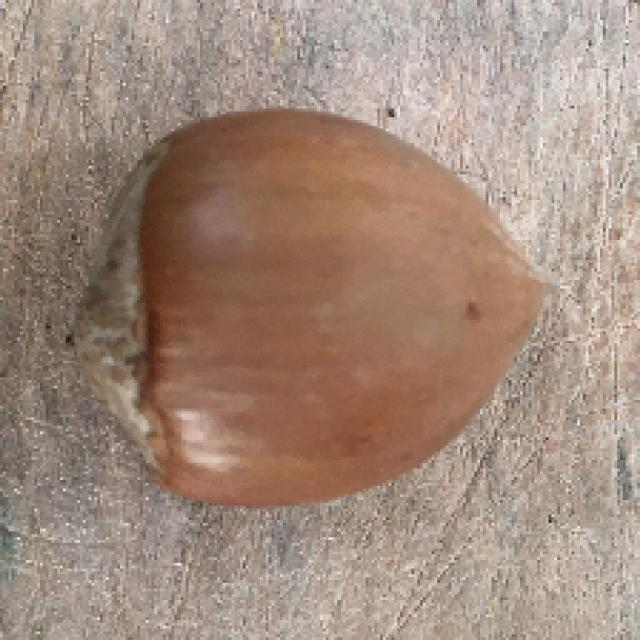DamagedHazelnut: (76, 112, 545, 512)
